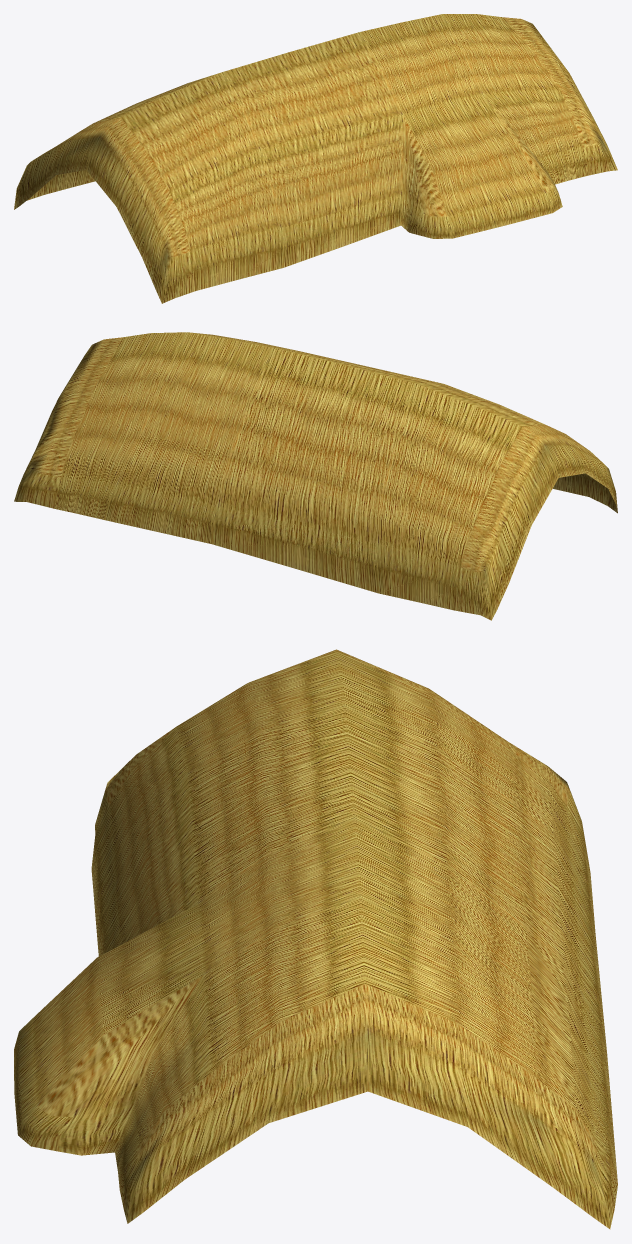
Rendered from HTOWN01_GREENDRAGROOF.fbx.
The picture shows the model from 3 angles, top to bottom: view 1: azimuth 30°, elevation 25°; view 2: azimuth 150°, elevation 25°; view 3: azimuth 270°, elevation 25°; orthographic projection. The views are drawn at different scales.
Visible parts, largest first — view 1: HTOWN01_GREENDRAGROOF; view 2: HTOWN01_GREENDRAGROOF; view 3: HTOWN01_GREENDRAGROOF.
Part boxes in pixels (bbox=[...]): HTOWN01_GREENDRAGROOF: bbox=[14, 14, 617, 303]; HTOWN01_GREENDRAGROOF: bbox=[14, 332, 617, 620]; HTOWN01_GREENDRAGROOF: bbox=[14, 649, 617, 1229].
Bounding box in the file's own units: 98776 × 31036 × 62230.
Materials: 4 (4 with a texture image).
